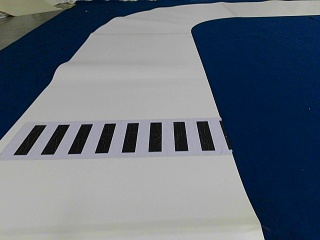crosswalk: (14, 122, 221, 155)
